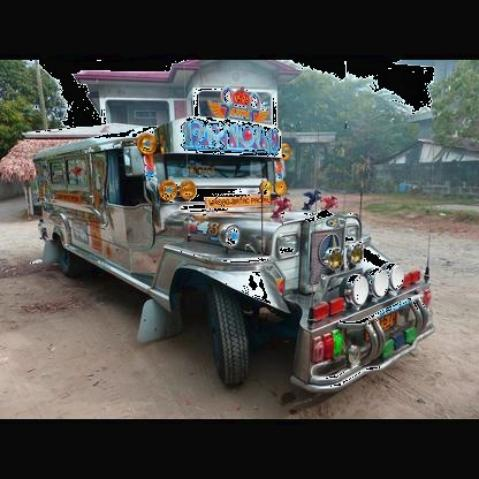jeepney: (30, 93, 444, 401)
